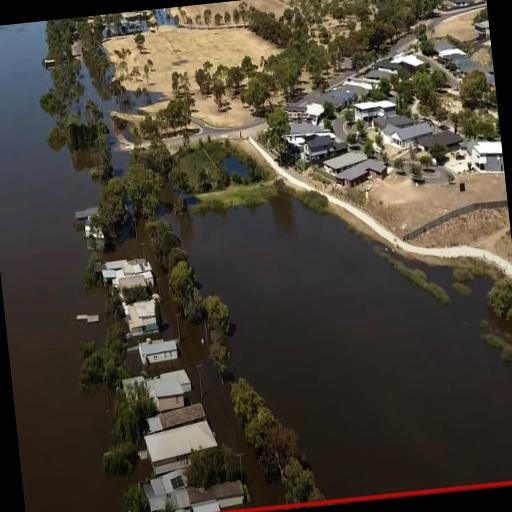flood: (162, 195, 512, 498), (0, 21, 138, 512), (167, 320, 283, 504), (138, 222, 176, 337), (79, 68, 116, 125), (109, 130, 129, 175), (109, 238, 140, 257), (222, 154, 246, 176), (147, 89, 168, 103), (130, 93, 142, 108)
house: (140, 458, 248, 512), (138, 406, 218, 474), (144, 364, 196, 412), (102, 256, 154, 296), (334, 155, 388, 191), (123, 296, 162, 342), (416, 126, 465, 162), (136, 334, 181, 370), (469, 136, 505, 178), (384, 116, 433, 146), (299, 129, 342, 161), (474, 18, 492, 44)
